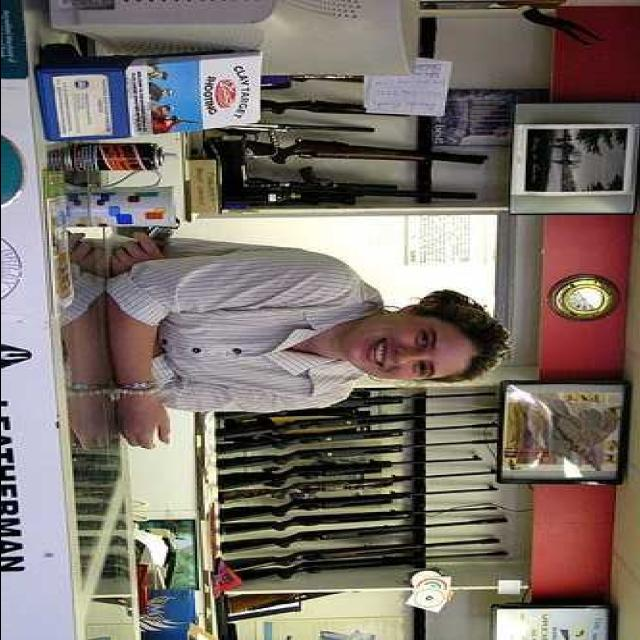heavyweapon: (195, 123, 507, 177), (203, 168, 485, 219), (228, 550, 510, 596), (219, 485, 501, 530), (177, 409, 521, 439)
